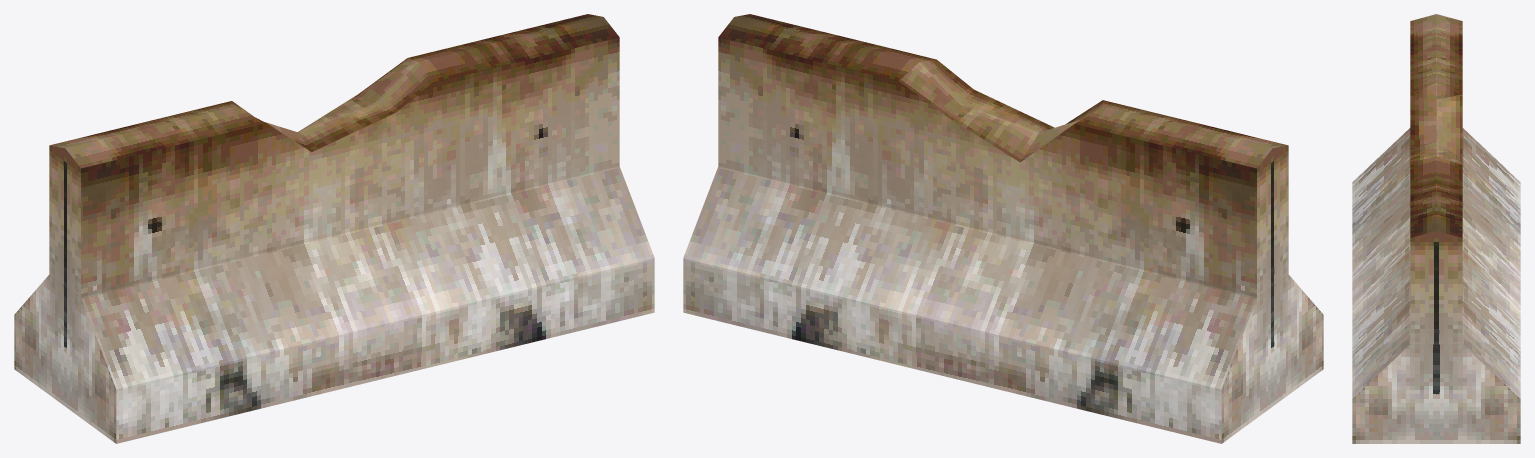
The model's file is barrier6.glb.
3 renders of one model, left to right at view 1: azimuth 30°, elevation 25°; view 2: azimuth 150°, elevation 25°; view 3: azimuth 270°, elevation 25°, orthographic. The views are drawn at different scales.
Visible parts, largest first — view 1: Jersey_barrier_broken_center_dirty_concrete_barriers_0; view 2: Jersey_barrier_broken_center_dirty_concrete_barriers_0; view 3: Jersey_barrier_broken_center_dirty_concrete_barriers_0.
Part boxes in pixels (bbox=[...]): Jersey_barrier_broken_center_dirty_concrete_barriers_0: bbox=[14, 14, 654, 443]; Jersey_barrier_broken_center_dirty_concrete_barriers_0: bbox=[683, 14, 1323, 443]; Jersey_barrier_broken_center_dirty_concrete_barriers_0: bbox=[1352, 14, 1520, 443].
Size of the model in its own units: 2.48 by 1.14 by 0.8144.
1 material, 1 textured.
